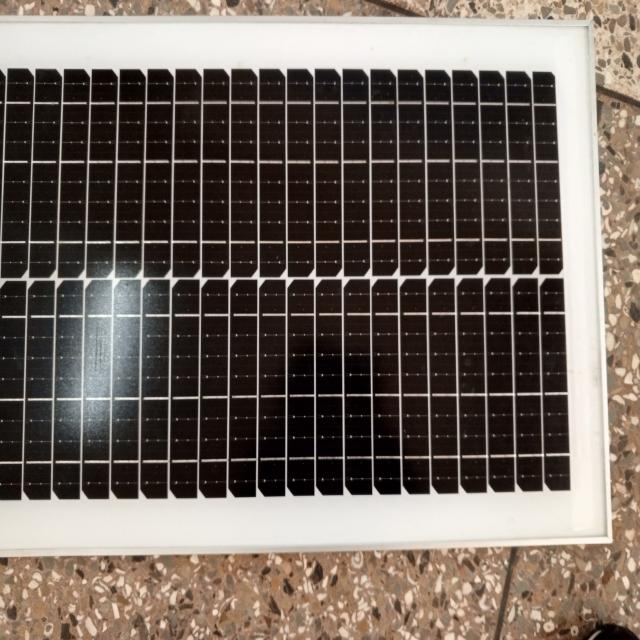Clean: (1, 36, 592, 523)
